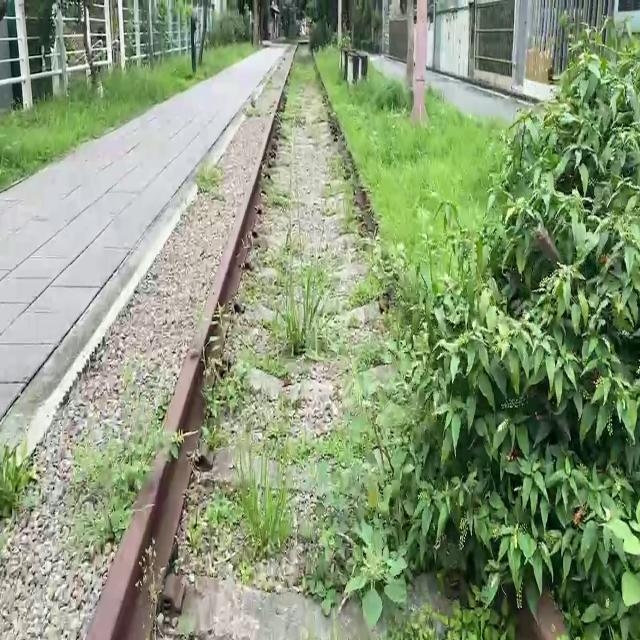rail-track: (155, 46, 410, 640)
